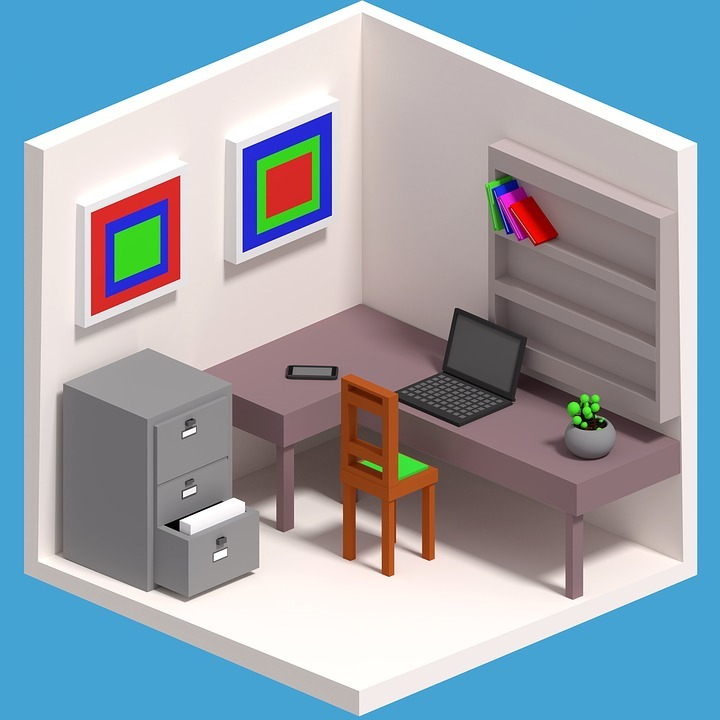chair: (338, 371, 440, 580)
tvmonitor: (394, 310, 531, 431)
